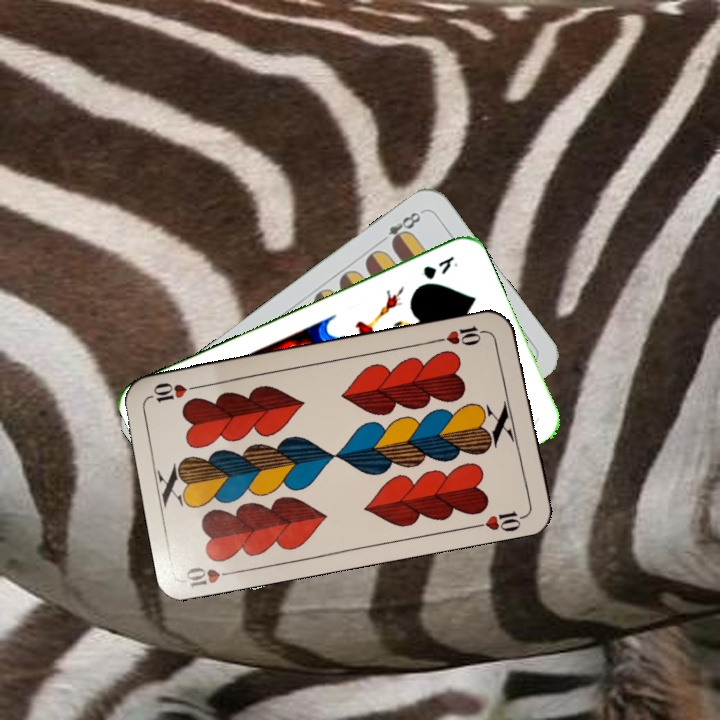E8: (374, 207, 424, 249)
GK: (419, 251, 461, 283)
H10: (432, 321, 491, 349), (182, 563, 241, 590)
